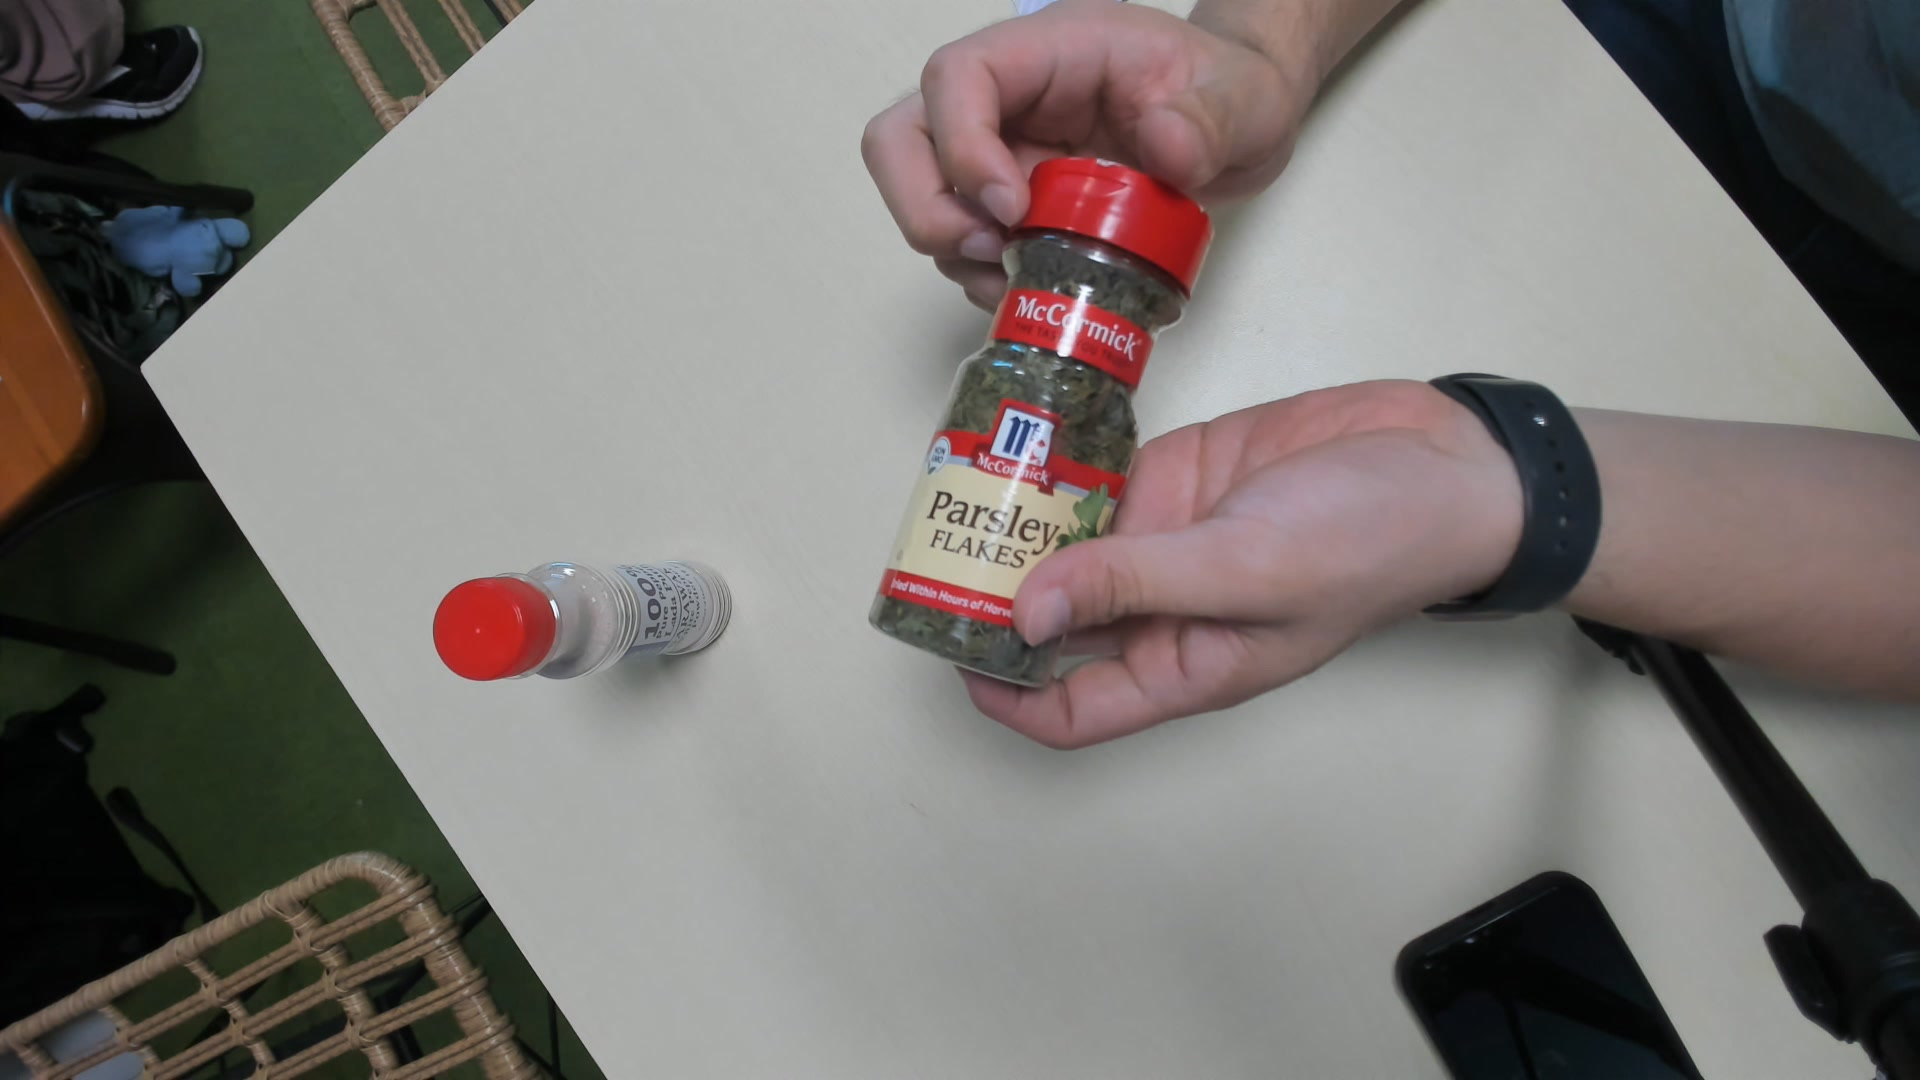HerbsSpicesPepper_0-99g_NonHalal_NonHealthy: (872, 157, 1208, 691)
